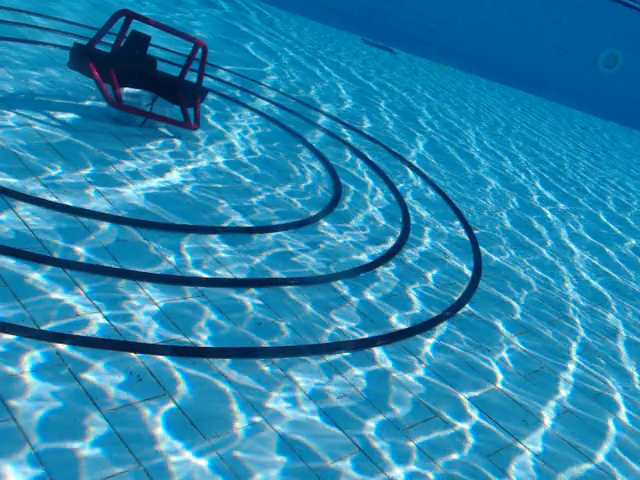submarine: (67, 7, 210, 132)
